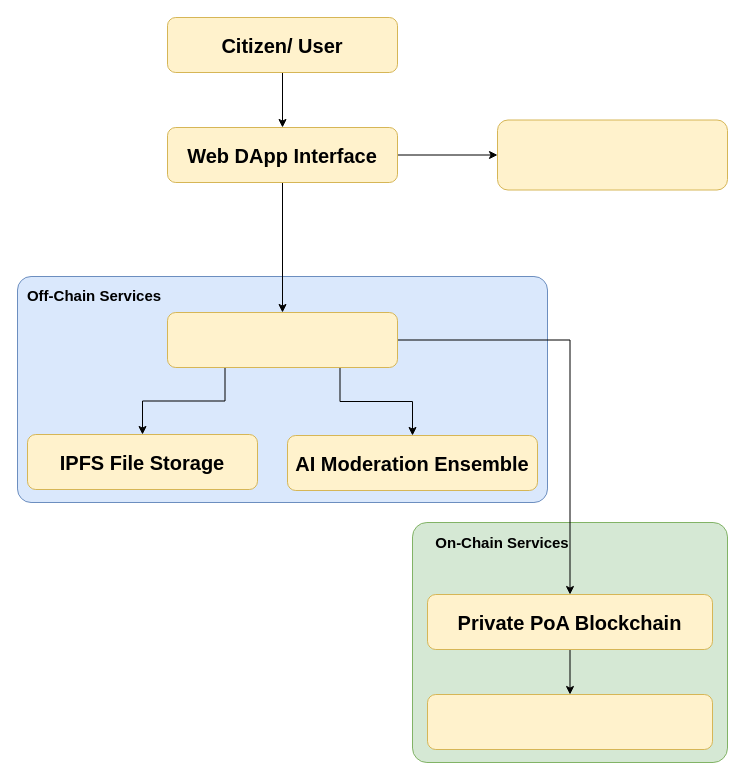
Image size: 745x780. Some labels were removed from this diagram. The shapes that lost their labels are listed below. From the top down, each one's box as (x1, y1, x2, y2) in pixels, then its label:
(496, 119, 728, 190): ZKP GovID Authentication
(166, 312, 398, 368): Backend Relayer Gateway
(426, 694, 712, 750): Smart Contracts (Reporing, Emergency, Polling, MutliSig)
